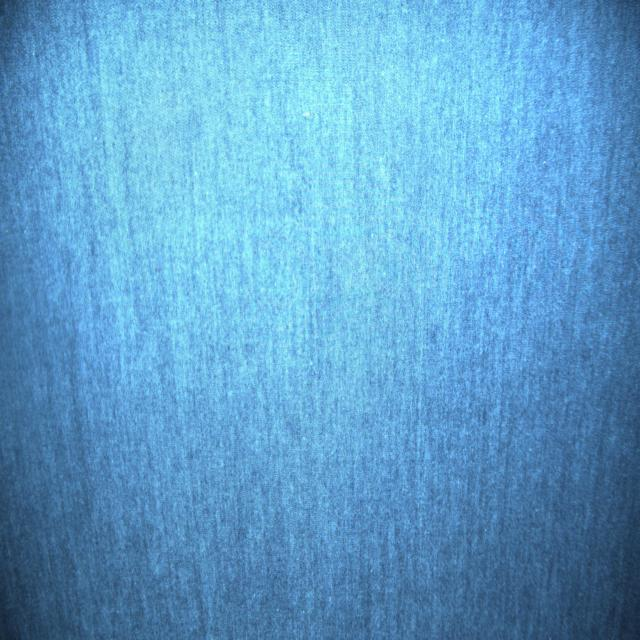defect: (40, 5, 600, 511)
